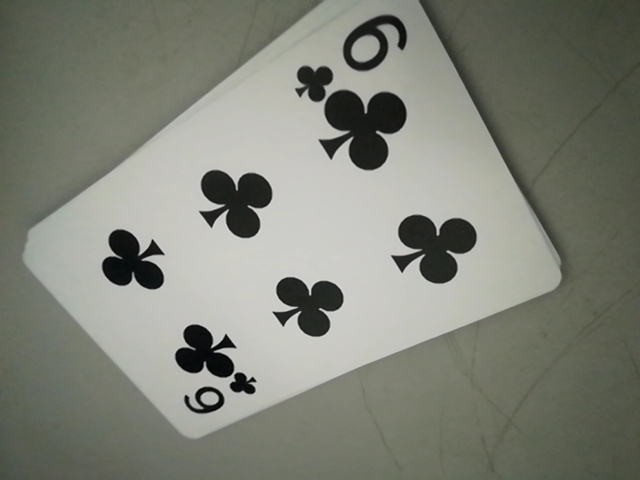mh 6: (295, 8, 417, 98), (175, 370, 264, 425)
